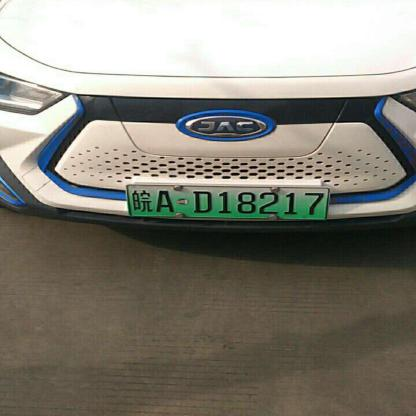lp: (126, 183, 328, 219)
